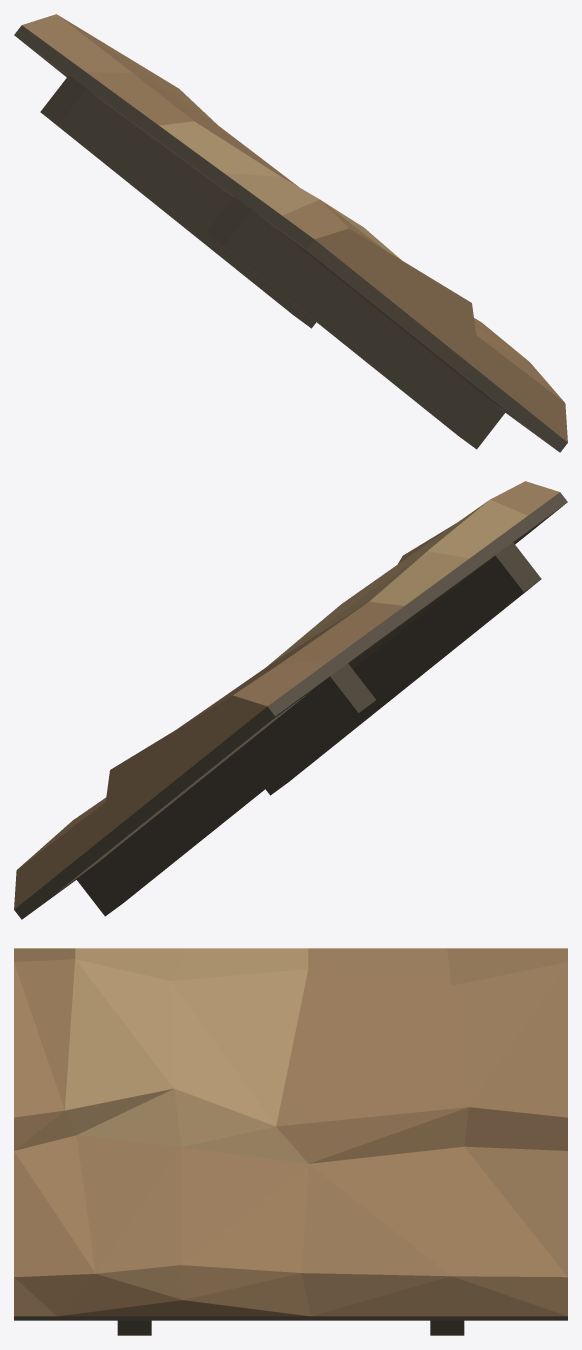
File: kingdom_SM_Bld_House_Roof_Thatch_Half_01.gltf
The picture shows the model from 3 angles, top to bottom: view 1: azimuth 30°, elevation 25°; view 2: azimuth 150°, elevation 25°; view 3: azimuth 270°, elevation 25°; orthographic projection. The views are drawn at different scales.
Parts seen in each view (by area): view 1: SM_Bld_House_Roof_Thatch_Half_01; view 2: SM_Bld_House_Roof_Thatch_Half_01; view 3: SM_Bld_House_Roof_Thatch_Half_01.
Boxes of the visible parts, x1=… form: SM_Bld_House_Roof_Thatch_Half_01: x1=14, y1=14, x2=567, y2=452; SM_Bld_House_Roof_Thatch_Half_01: x1=14, y1=481, x2=567, y2=919; SM_Bld_House_Roof_Thatch_Half_01: x1=14, y1=948, x2=567, y2=1335.
Size of the model in its own units: 1.47 by 1.46 by 2.5.
1 material, 1 textured.
